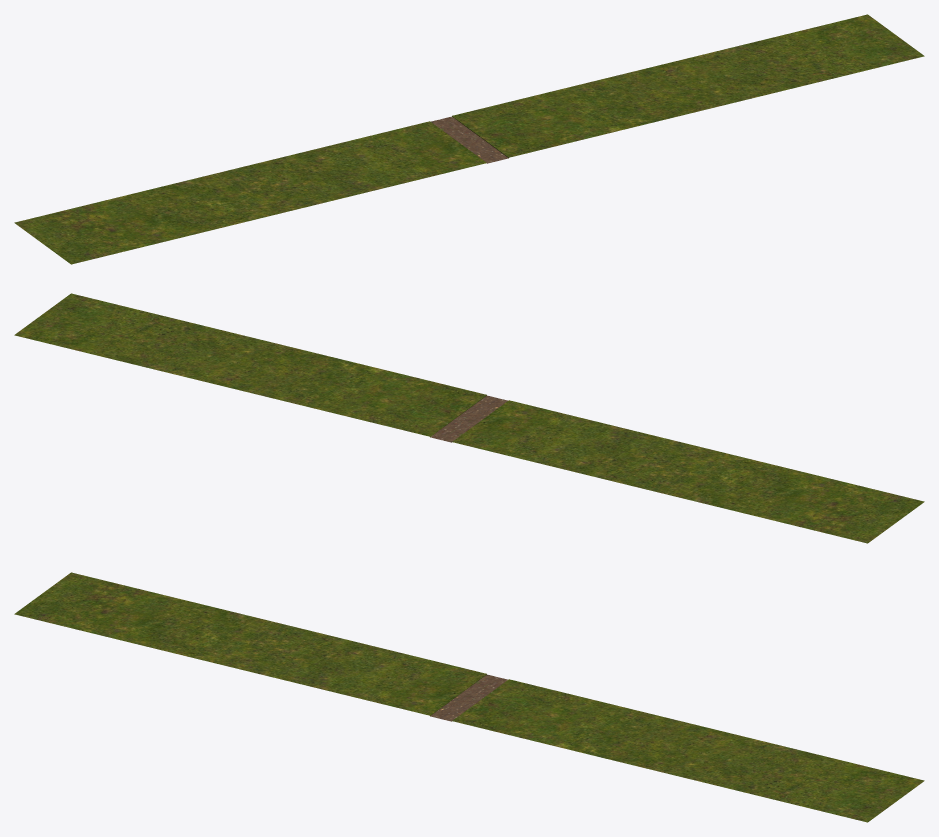
File: Floor1.glb
3 renders of one model, top to bottom at view 1: azimuth 30°, elevation 25°; view 2: azimuth 150°, elevation 25°; view 3: azimuth 330°, elevation 25°, orthographic.
Visible parts, largest first — view 1: Caminho1; view 2: Caminho1; view 3: Caminho1.
Boxes of the visible parts, x1,y1,x2,y2 form: Caminho1: (14,14,924,264); Caminho1: (14,293,924,543); Caminho1: (14,572,924,822).
Size of the model in its own units: 17.24 by 0.0118 by 2.
2 materials, 2 textured.
